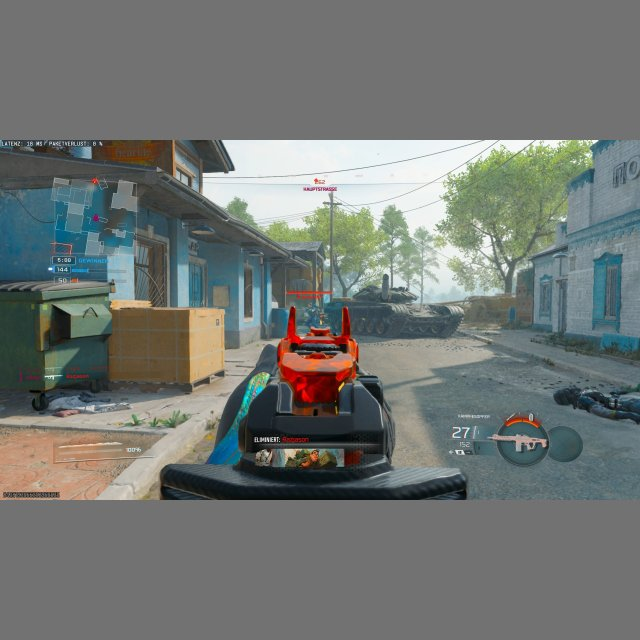player: (304, 302, 317, 327)
